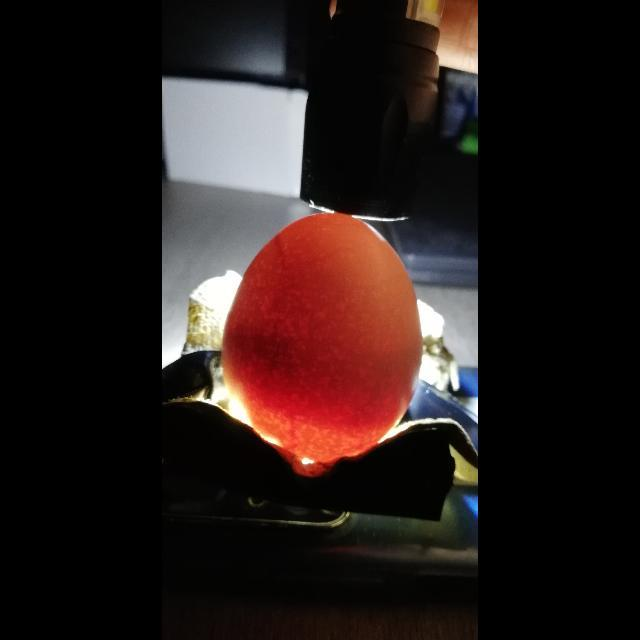Fertile: (222, 212, 422, 470)
